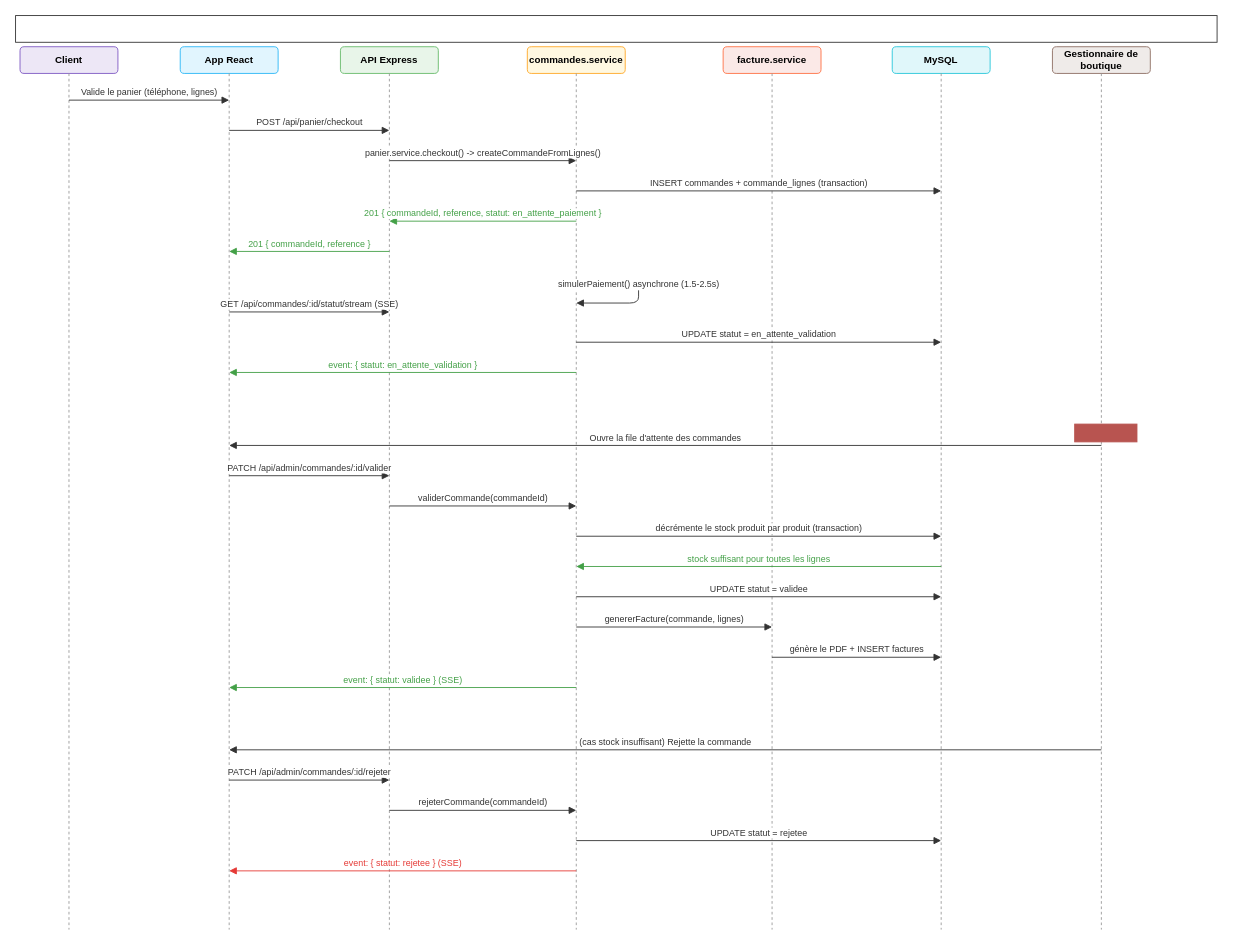
This 1233x946 diagram has some shape labels left out. The centre of each missing label's shape, as x and y in pixels:
alt: the point at 1105,432
Séquence — Commande, paiement simulé et validation: the point at 616,28
